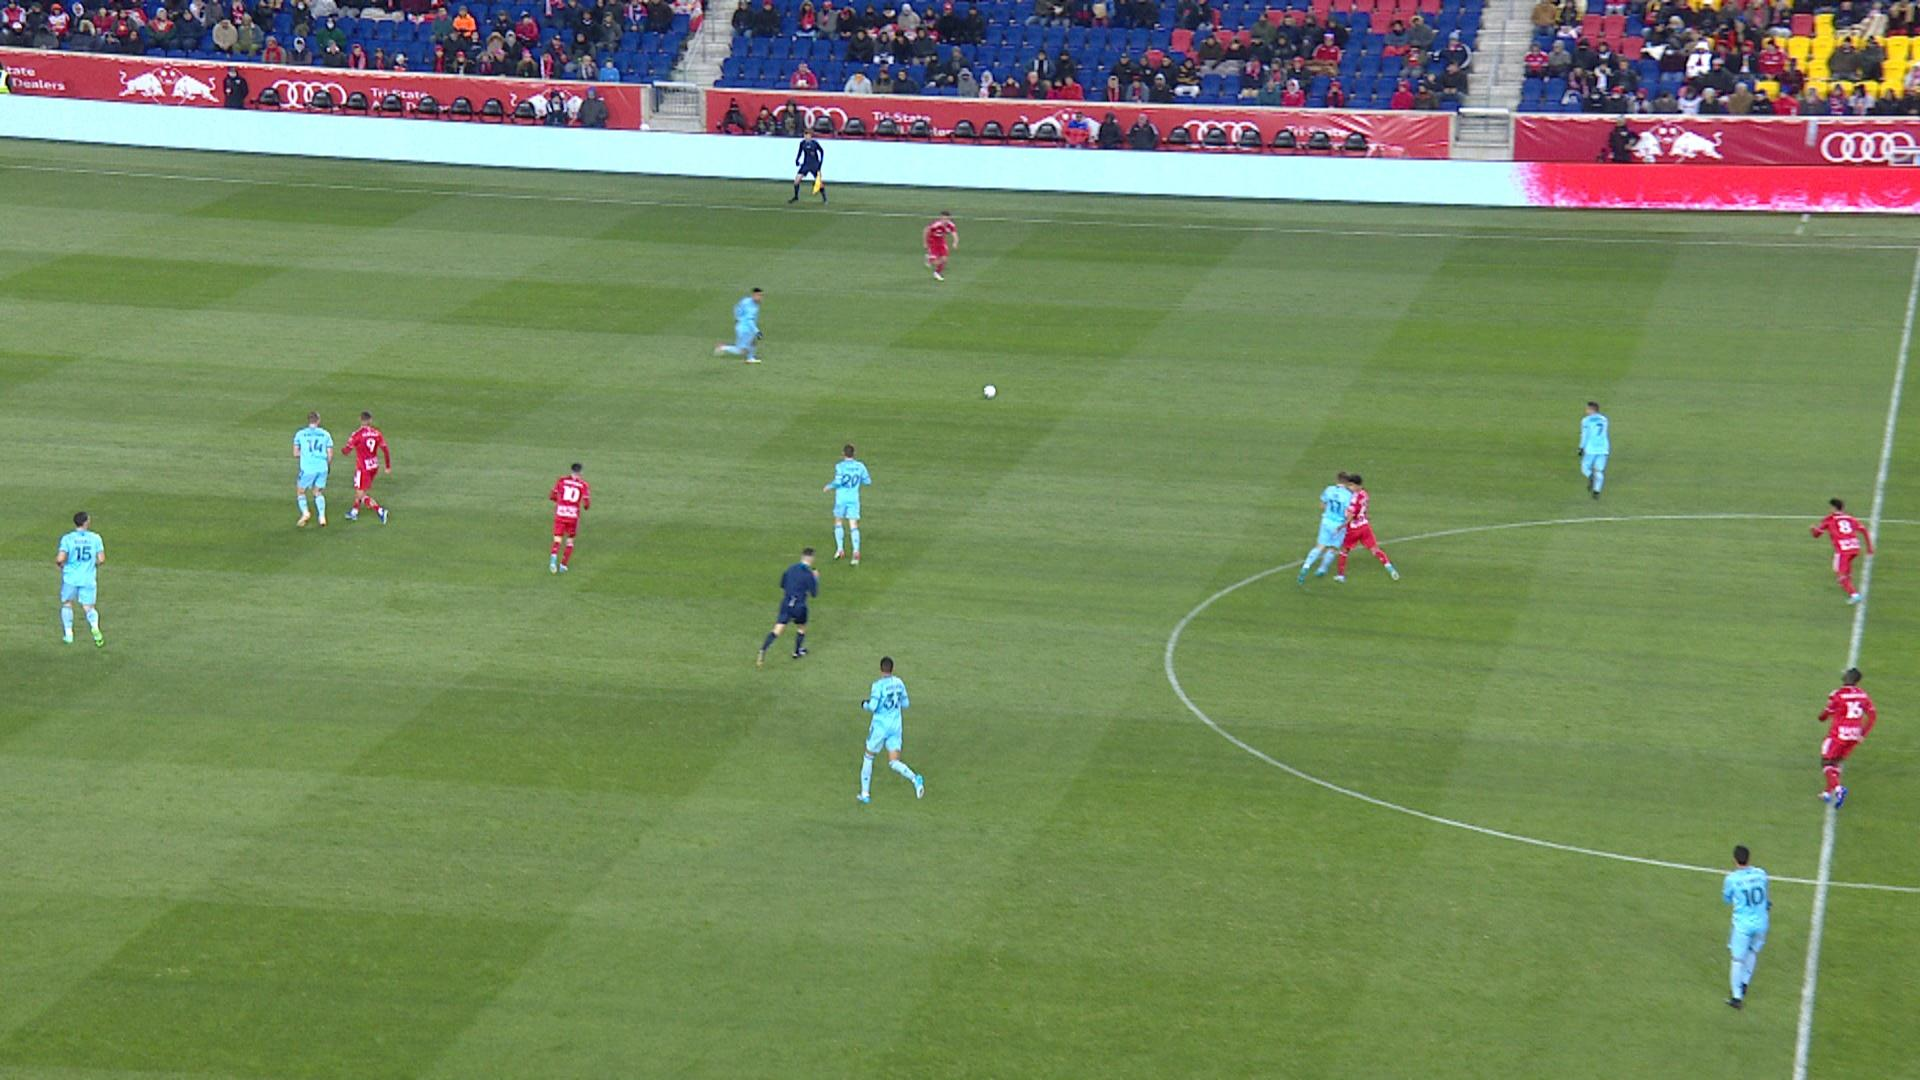football: (982, 384, 998, 400)
